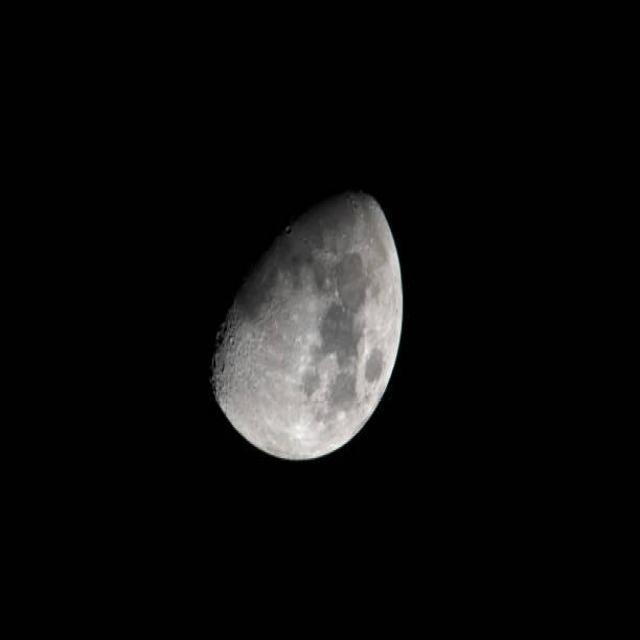moon: (170, 148, 408, 467)
